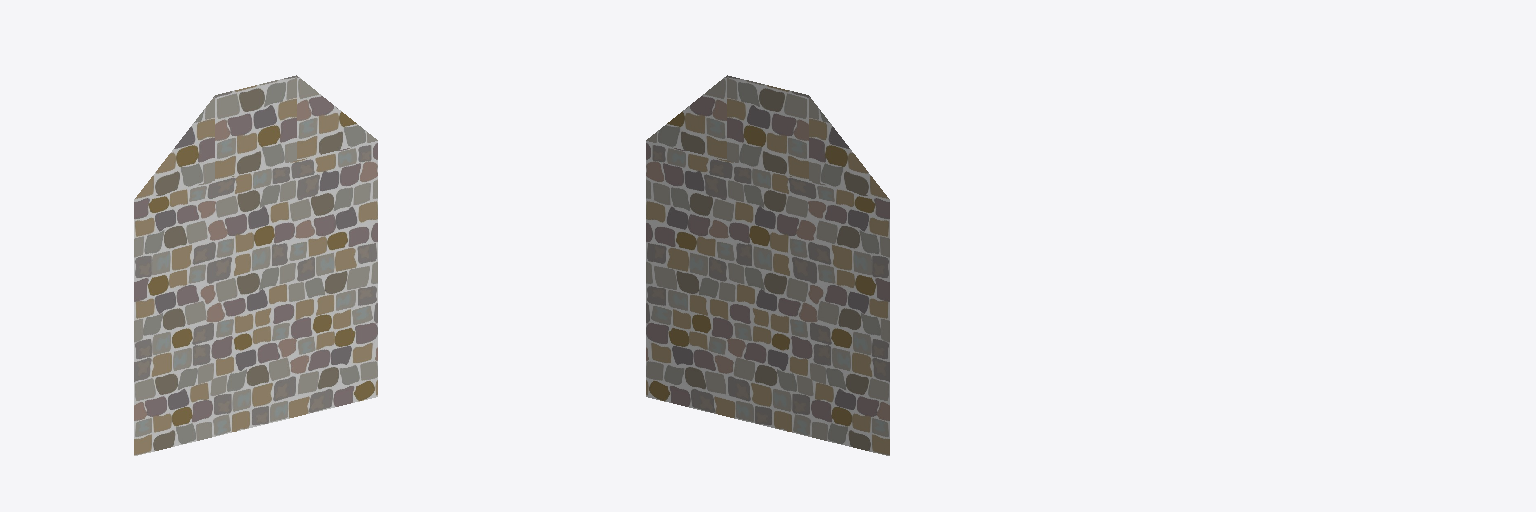
The picture shows the model from 3 angles: view 1: azimuth 30°, elevation 25°; view 2: azimuth 150°, elevation 25°; view 3: azimuth 270°, elevation 25°; orthographic projection.
Parts seen in each view (by area): view 1: GroundChurch; view 2: GroundChurch; view 3: none.
Boxes of the visible parts, box(x1,y1,x2,y2) form: GroundChurch: box(134, 75, 377, 455); GroundChurch: box(646, 75, 889, 455).
Size of the model in its own units: 600 by 800 by 0.
Materials: 1 (1 with a texture image).